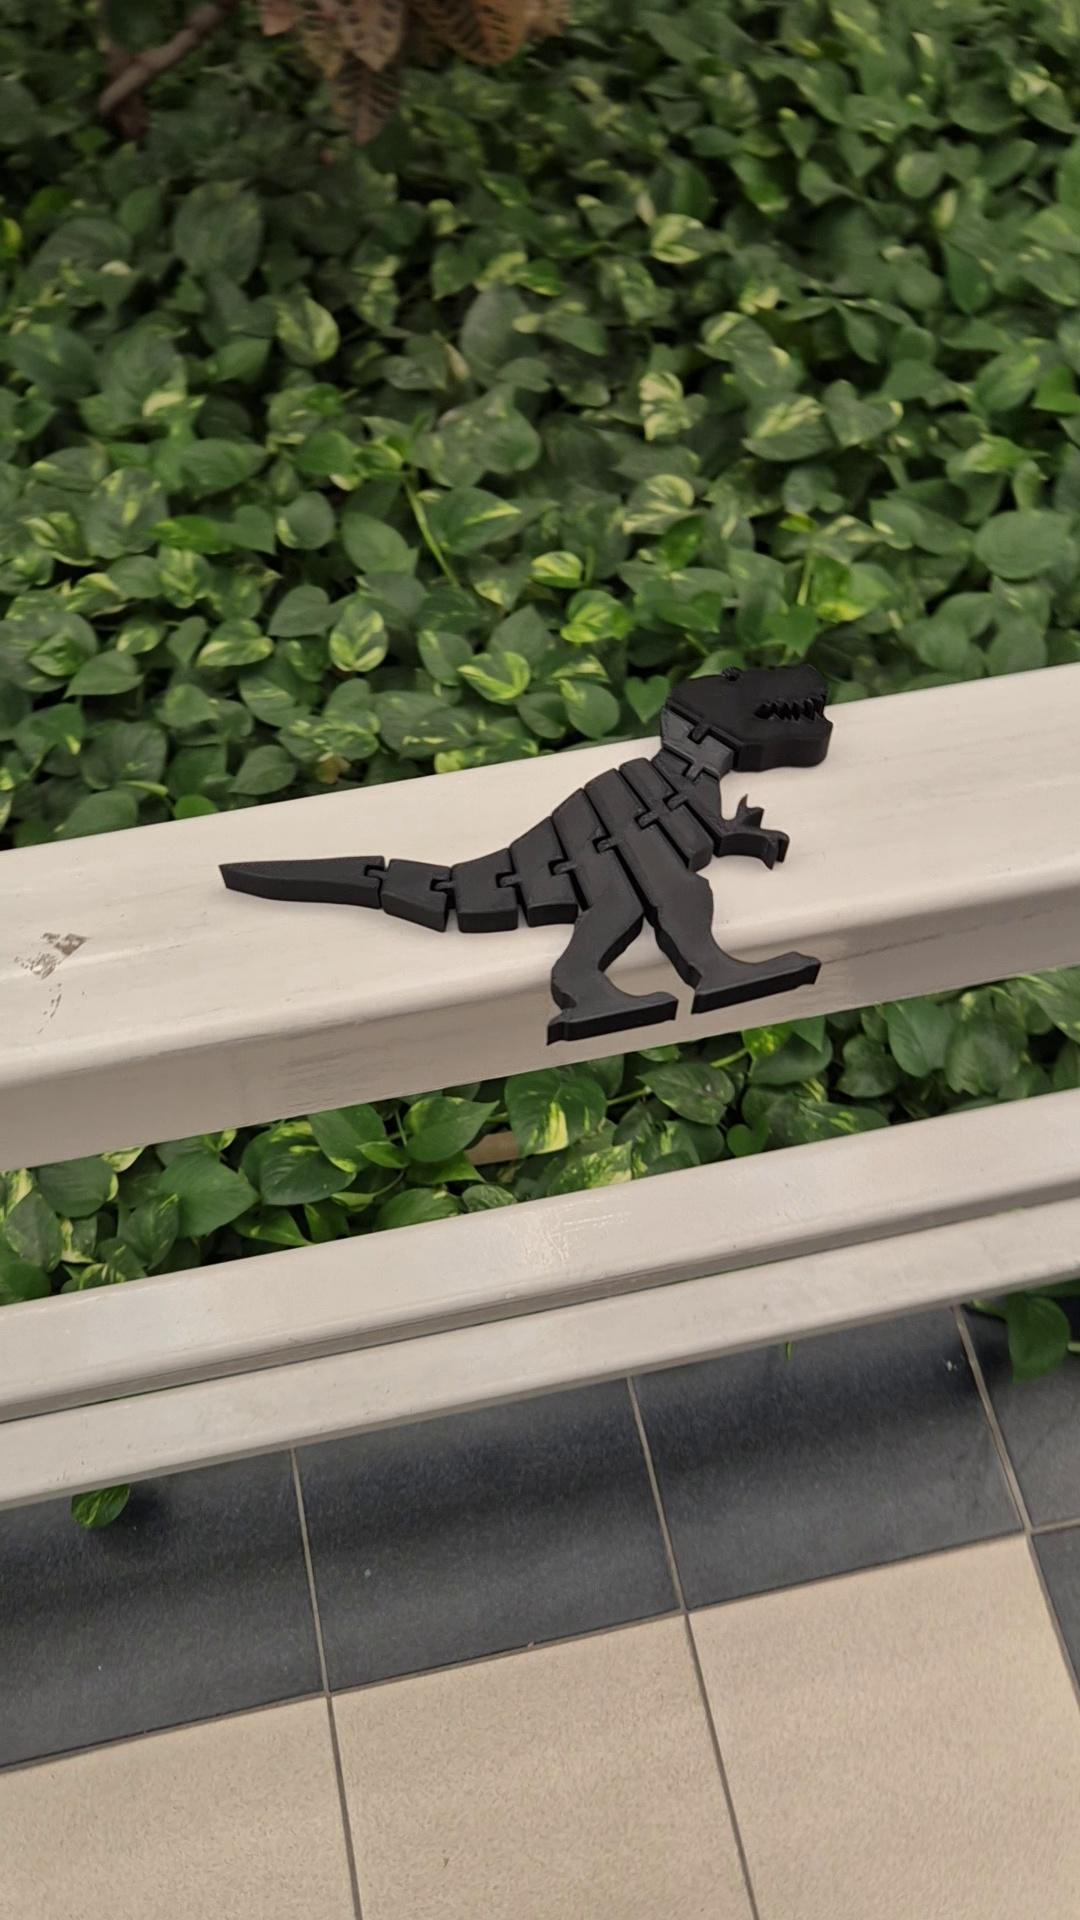dinosaur: (216, 663, 836, 1051)
